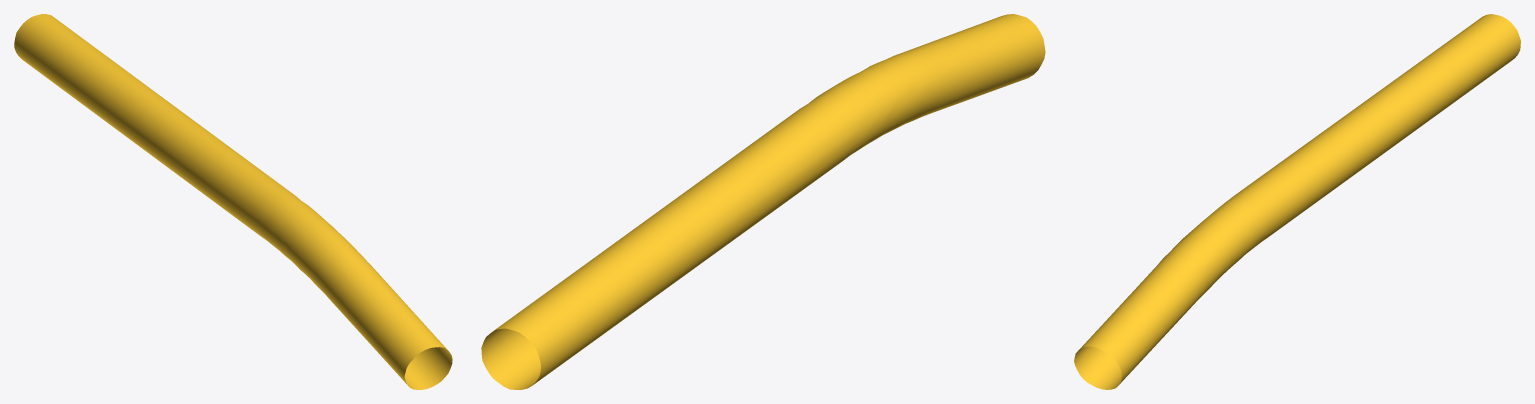
Rendered from original_3.obj.
3 renders of one model, left to right at view 1: azimuth 30°, elevation 25°; view 2: azimuth 150°, elevation 25°; view 3: azimuth 330°, elevation 25°, orthographic. The views are drawn at different scales.
Parts seen in each view (by area): view 1: #ID396; view 2: #ID396; view 3: #ID396.
Part boxes in pixels (left/top/right/bottom): #ID396: left=14, top=14, right=452, bottom=389; #ID396: left=481, top=14, right=1045, bottom=389; #ID396: left=1074, top=14, right=1520, bottom=389.
Size of the model in its own units: 0.0252 by 0.0416 by 0.342.
